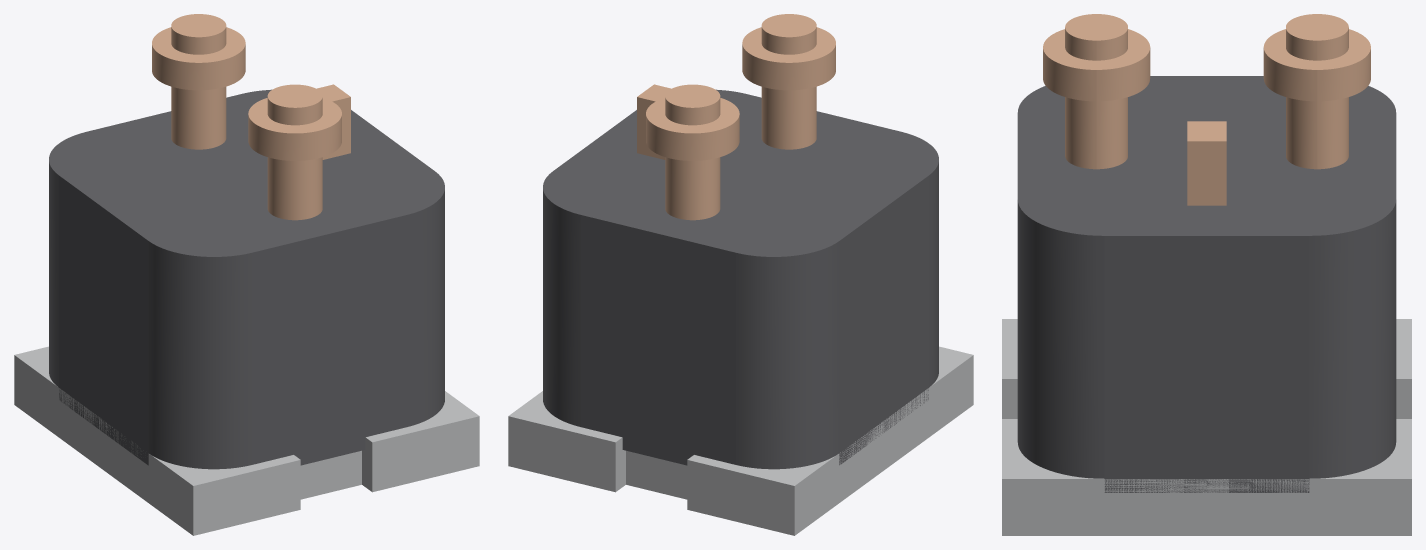
File: starter-relay.glb
The picture shows the model from 3 angles, left to right: view 1: azimuth 30°, elevation 25°; view 2: azimuth 150°, elevation 25°; view 3: azimuth 270°, elevation 25°; orthographic projection. The views are drawn at different scales.
Parts seen in each view (by area): view 1: relay body, phenolic, mounting foot, battery/starter studs + S terminal; view 2: relay body, phenolic, mounting foot, battery/starter studs + S terminal; view 3: relay body, phenolic, mounting foot, battery/starter studs + S terminal.
Boxes of the visible parts, bbox=[...] form: relay body, phenolic: bbox=[49, 89, 444, 469]; mounting foot: bbox=[14, 346, 479, 535]; battery/starter studs + S terminal: bbox=[152, 14, 350, 220]; relay body, phenolic: bbox=[543, 89, 938, 469]; mounting foot: bbox=[508, 346, 973, 535]; battery/starter studs + S terminal: bbox=[637, 14, 835, 220]; relay body, phenolic: bbox=[1017, 76, 1396, 492]; mounting foot: bbox=[1002, 319, 1411, 535]; battery/starter studs + S terminal: bbox=[1043, 14, 1370, 205].
Bounding box in the file's own units: 0.0024 × 0.003 × 0.0026.
